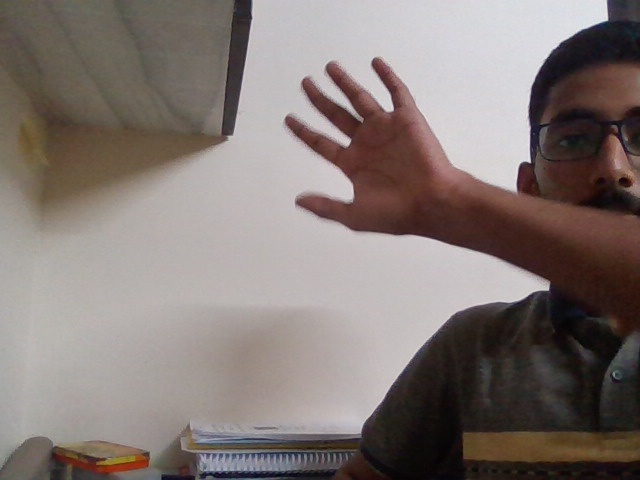Hello: (266, 46, 466, 282)
